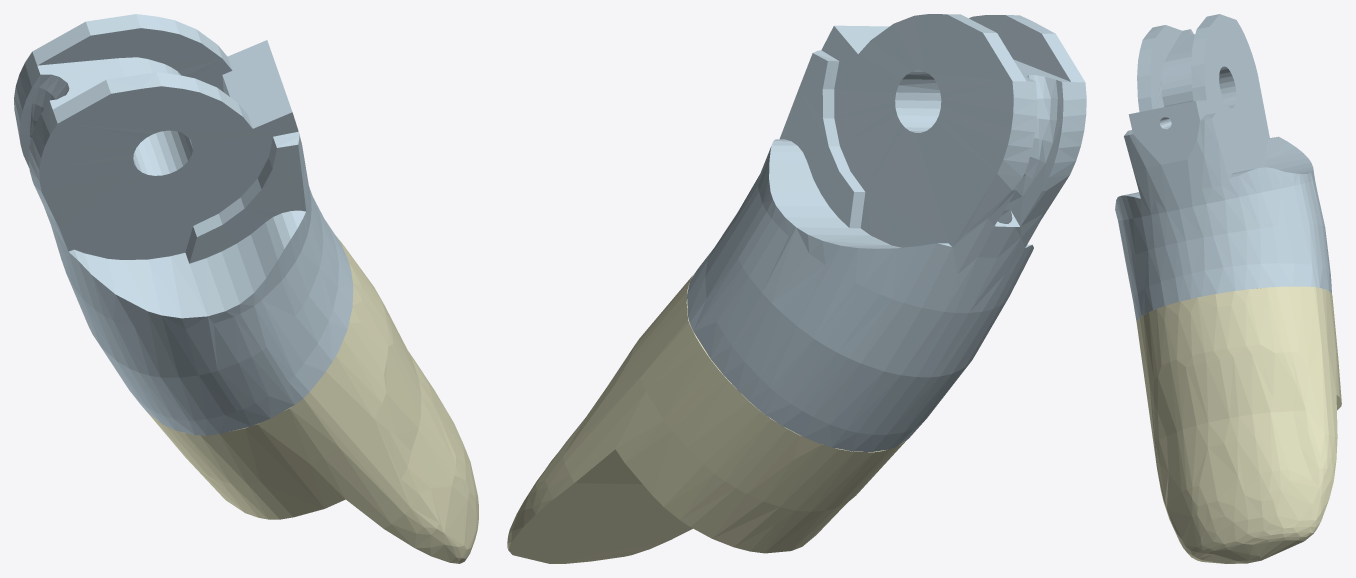
Rendered from i02_leftHand_ThumbTip_visual.obj.light.glb.
3 renders of one model, left to right at view 1: azimuth 30°, elevation 25°; view 2: azimuth 150°, elevation 25°; view 3: azimuth 270°, elevation 25°, orthographic. The views are drawn at different scales.
Bounding box in the file's own units: 0.3346 × 0.4094 × 0.1975.
